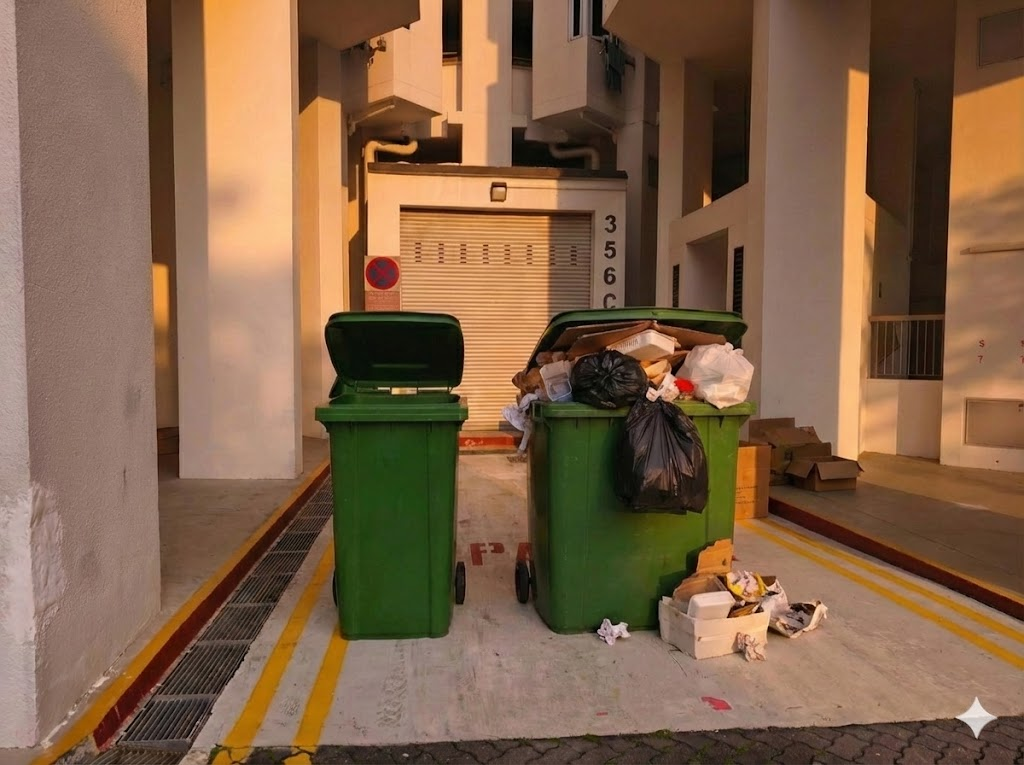bin_empty: (315, 313, 467, 639)
bin_full: (527, 307, 755, 632)
bulk_waste: (659, 591, 768, 658), (672, 539, 765, 605), (750, 420, 830, 476), (786, 455, 860, 491), (735, 443, 770, 518)
normal_waste: (616, 398, 708, 513), (761, 581, 827, 637)
